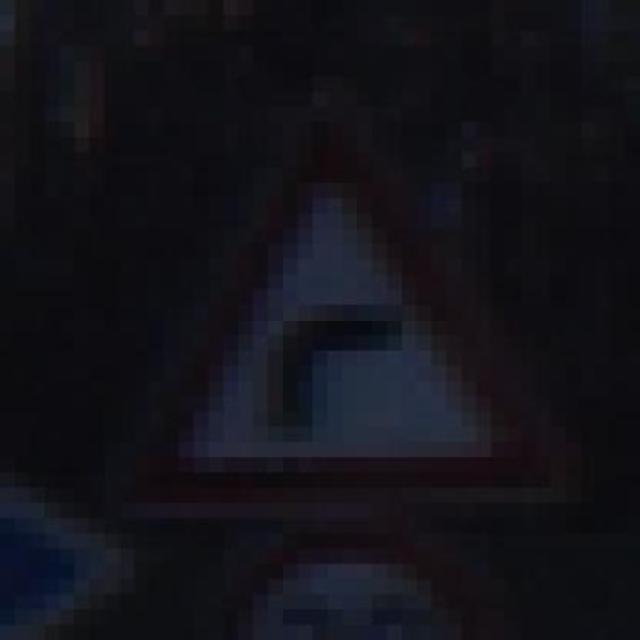Dangerous Rright Curve Ahead: (104, 76, 550, 518)
